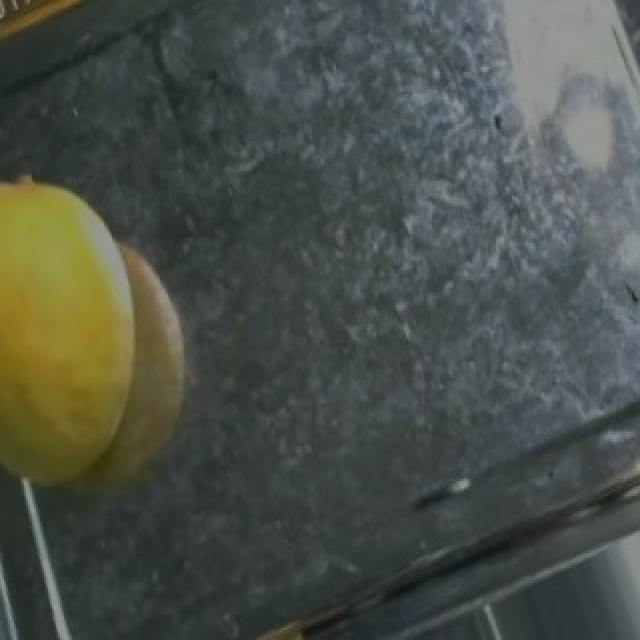fruit: (0, 142, 252, 518)
